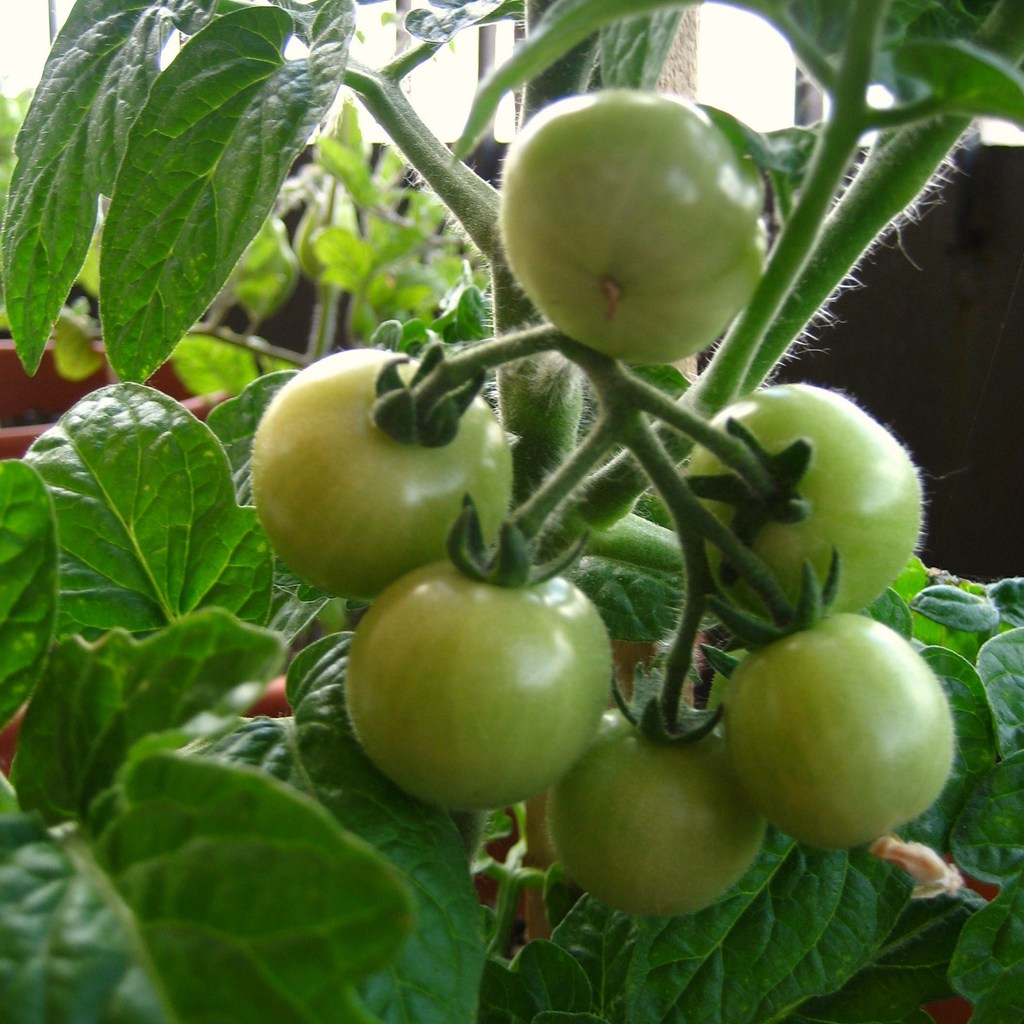Tomato: (500, 88, 763, 365), (347, 550, 613, 810), (251, 348, 514, 593), (685, 384, 922, 625), (723, 611, 959, 850), (547, 703, 765, 918)
